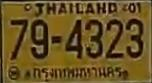2: (106, 18, 122, 57)
3: (85, 18, 102, 57), (125, 18, 142, 57)
4: (65, 18, 82, 57)
7: (10, 18, 27, 59)
9: (30, 19, 48, 58)
BKK: (31, 63, 125, 82)
